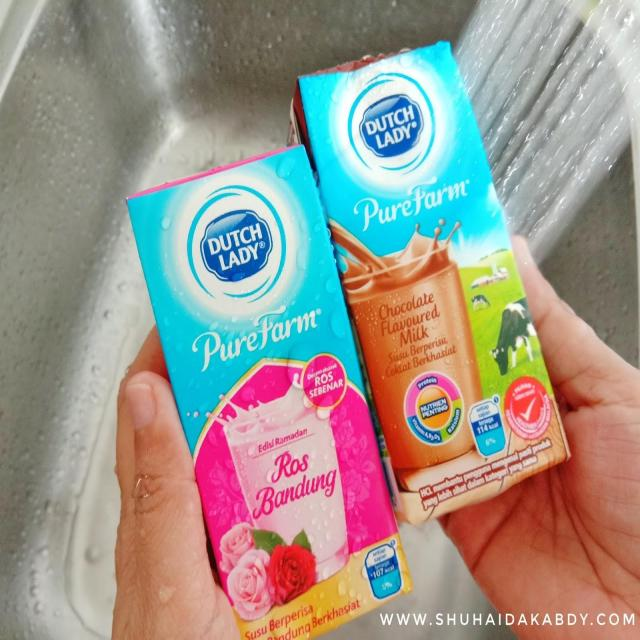drink carton: (125, 142, 408, 634), (291, 35, 570, 528)
